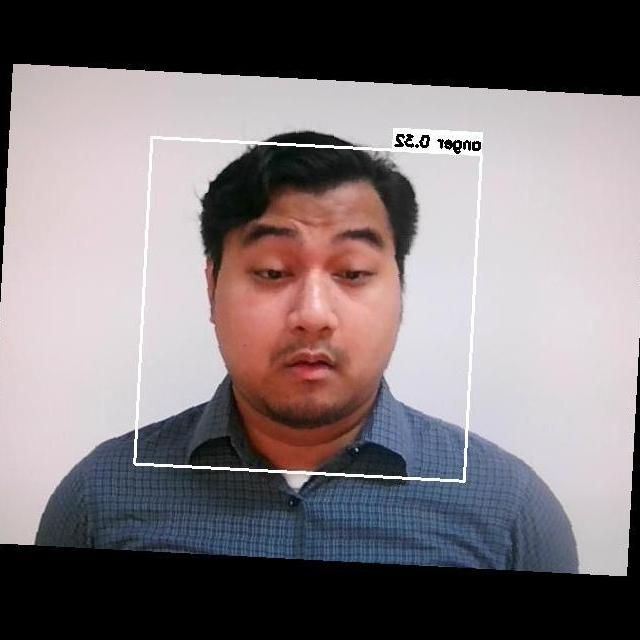Surprised: (214, 197, 419, 412)
